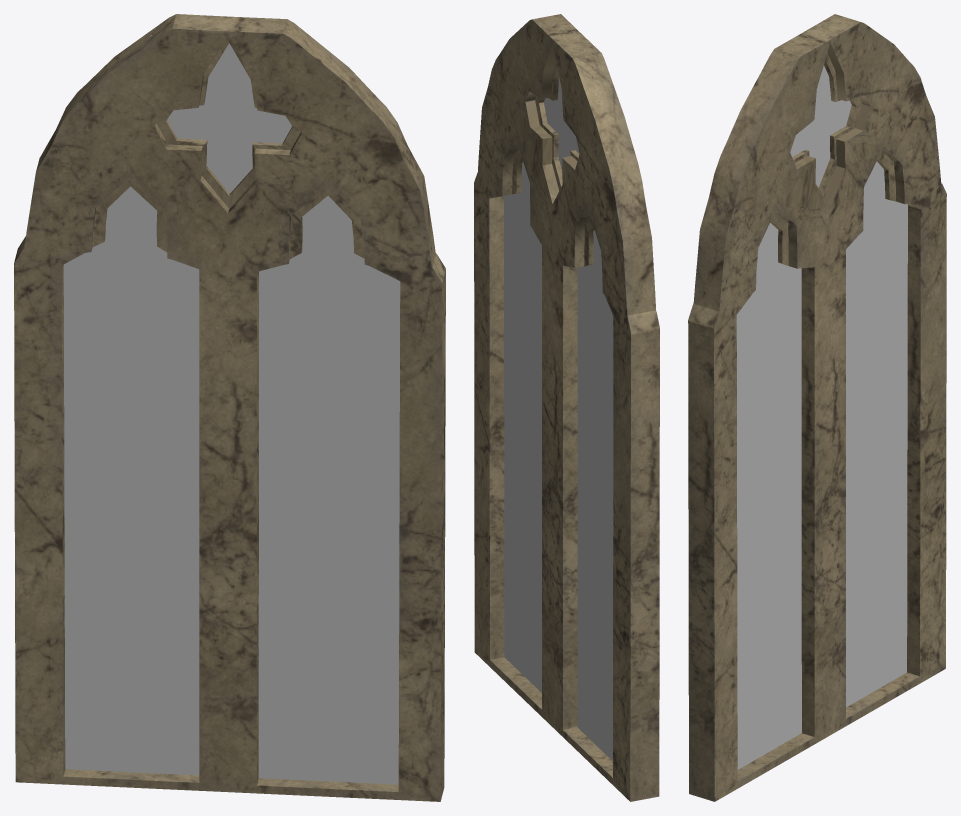
Rendered from WINDOW_TEXTURED.fbx.
3 renders of one model, left to right at view 1: azimuth 30°, elevation 25°; view 2: azimuth 150°, elevation 25°; view 3: azimuth 270°, elevation 25°, orthographic. The views are drawn at different scales.
Parts seen in each view (by area): view 1: Window_Frame, Glass2, Glass, Glass3; view 2: Window_Frame, Glass2, Glass, Glass3; view 3: Window_Frame, Glass2, Glass, Glass3.
Boxes of the visible parts, x1,y1,x2,y2 form: Window_Frame: (14, 14, 445, 801); Glass2: (258, 195, 400, 784); Glass: (63, 186, 199, 775); Glass3: (150, 35, 291, 192); Window_Frame: (474, 14, 659, 801); Glass2: (504, 162, 541, 692); Glass: (577, 230, 613, 760); Glass3: (544, 76, 595, 170); Window_Frame: (688, 14, 946, 801); Glass2: (736, 223, 801, 769); Glass: (846, 161, 907, 707); Glass3: (790, 65, 851, 187).
Bounding box in the file's own units: 42.3 × 96.48 × 32.5.
